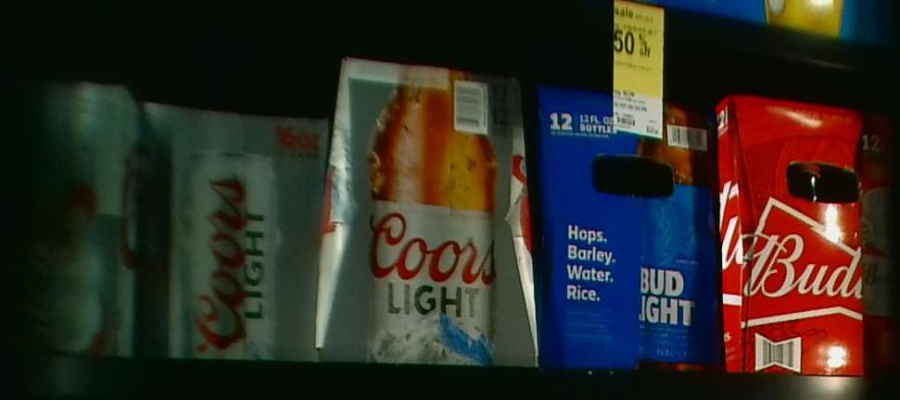bottle: (323, 56, 538, 366), (538, 81, 718, 373), (719, 95, 898, 378), (142, 102, 323, 358), (1, 85, 139, 355)
